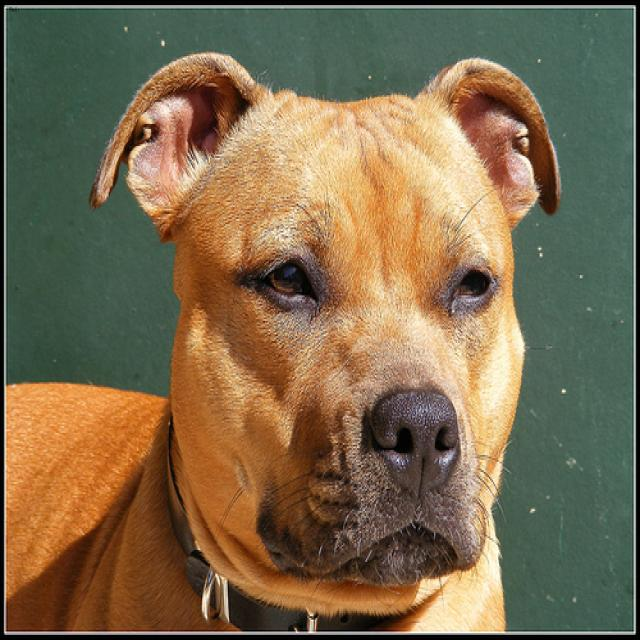dog-staffordshire_bull_terrier: (1, 46, 571, 637)
